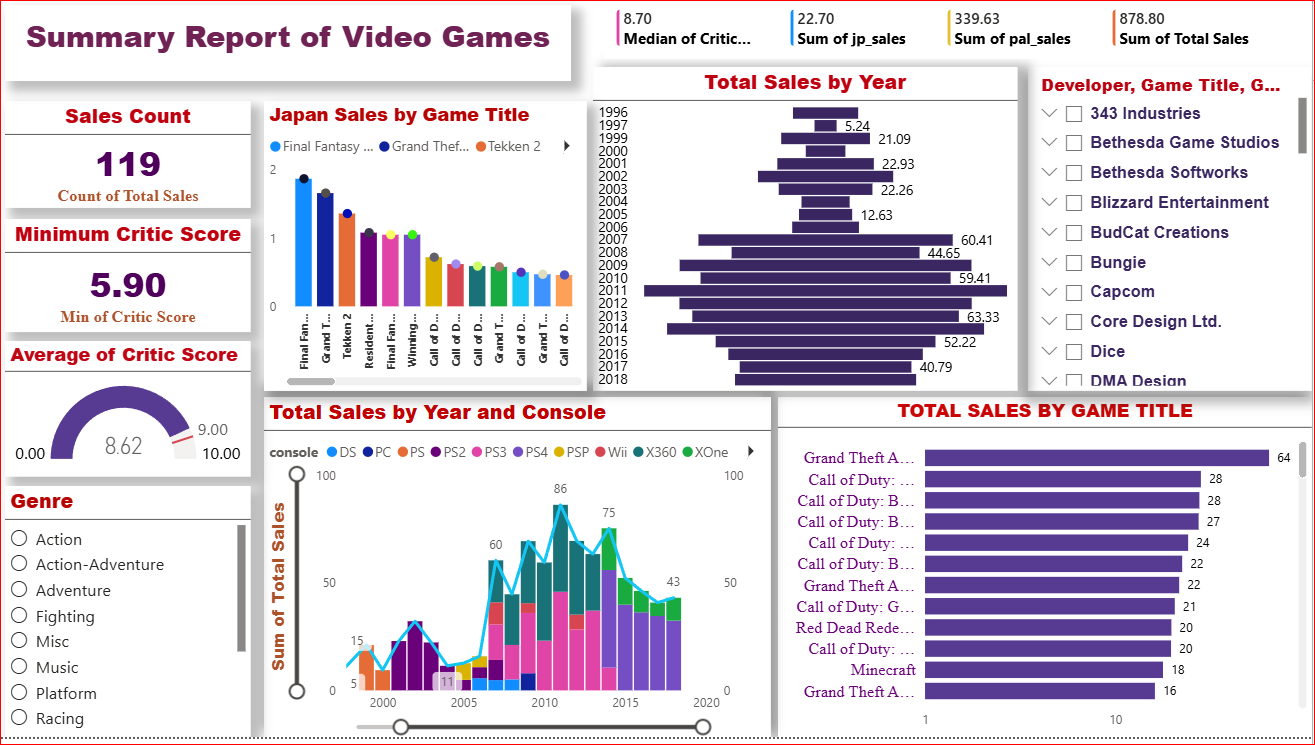

The page's visual inventory and layout, read from the dashboard file:
{"tool":"powerbi","page":{"name":"Page 1","canvas":[1280,720],"ordinal":0},"visuals":[{"type":"clusteredBarChart","title":"TOTAL SALES BY GAME TITLE","fields":{"Category":["Power-BI+Data+Set+used+in+the+e.title"],"Y":["Sum(Power-BI+Data+Set+used+in+the+e.total_sales)"]},"box":[760.6,389.1,519.4,330.7],"z":0},{"type":"lineStackedColumnComboChart","title":"Total Sales by Year and Console","fields":{"Category":["Power-BI+Data+Set+used+in+the+e.release_date.Variation.Date Hierarchy.Year","Power-BI+Data+Set+used+in+the+e.release_date.Variation.Date Hierarchy.Quarter","Power-BI+Data+Set+used+in+the+e.release_date.Variation.Date Hierarchy.Month","Power-BI+Data+Set+used+in+the+e.release_date.Variation.Date Hierarchy.Day"],"Y":["Sum(Power-BI+Data+Set+used+in+the+e.total_sales)"],"Y2":["Sum(Power-BI+Data+Set+used+in+the+e.total_sales)"],"Series":["Power-BI+Data+Set+used+in+the+e.console"]},"box":[260.7,389.1,493.1,330.7],"z":1000},{"type":"card","title":"Sales Count","fields":{"Values":["CountNonNull(Power-BI+Data+Set+used+in+the+e.total_sales)"]},"box":[8.8,101.2,239.3,104.1],"z":2000},{"type":"card","title":"Minimum Critic Score","fields":{"Values":["Min(Power-BI+Data+Set+used+in+the+e.critic_score)"]},"box":[8.8,215.9,239.3,109.9],"z":3000},{"type":"slicer","fields":{"Values":["Power-BI+Data+Set+used+in+the+e.developer","Power-BI+Data+Set+used+in+the+e.title","Power-BI+Data+Set+used+in+the+e.Genre"]},"box":[1003.8,68.1,276.2,315.1],"z":4000},{"type":"funnel","title":"Total Sales by Year","fields":{"Category":["Power-BI+Data+Set+used+in+the+e.release_date","Power-BI+Data+Set+used+in+the+e.release_date.Variation.Date Hierarchy.Year"],"Y":["Sum(Power-BI+Data+Set+used+in+the+e.Total Sales)"]},"box":[580.6,67.9,412.7,314.9],"z":5000},{"type":"gauge","fields":{"Y":["Avg(Power-BI+Data+Set+used+in+the+e.Critic Score)"]},"box":[8.8,334.6,239.3,132.3],"z":6000},{"type":"lineStackedColumnComboChart","title":"Japan Sales by Game Title","fields":{"Category":["Power-BI+Data+Set+used+in+the+e.Game Title"],"Y":["Sum(Power-BI+Data+Set+used+in+the+e.jp_sales)"],"Series":["Power-BI+Data+Set+used+in+the+e.Game Title"],"Y2":["Sum(Power-BI+Data+Set+used+in+the+e.jp_sales)"]},"box":[260.7,101.2,314.2,282.1],"z":7000},{"type":"card","title":"Summary Report of Video Games","fields":{"Values":["CountNonNull(Power-BI+Data+Set+used+in+the+e.total_sales)"]},"box":[8.8,8,550.5,74],"z":8000},{"type":"cardVisual","fields":{"Data":["Median(Power-BI+Data+Set+used+in+the+e.Critic Score)"]},"box":[591.4,0,169.2,60.3],"z":9000},{"type":"cardVisual","fields":{"Data":["Sum(Power-BI+Data+Set+used+in+the+e.jp_sales)"]},"box":[760.6,0,152.7,60.3],"z":10000},{"type":"cardVisual","fields":{"Data":["Sum(Power-BI+Data+Set+used+in+the+e.pal_sales)"]},"box":[913.3,0,160.5,60.3],"z":11000},{"type":"cardVisual","fields":{"Data":["Sum(Power-BI+Data+Set+used+in+the+e.Total Sales)"]},"box":[1073.8,0,174.1,60.3],"z":12000},{"type":"listSlicer","fields":{"Values":["Power-BI+Data+Set+used+in+the+e.Genre"]},"box":[8.8,475.6,239.3,244.1],"z":12001}]}

Visuals, with their boxes in screenshot pixels (x1, y1, x2, y2), scaled from the page's 1280x720 canvas onto the 1315x745 screenshot:
"TOTAL SALES BY GAME TITLE" clusteredBarChart: [x1=781, y1=403, x2=1314, y2=744]
"Total Sales by Year and Console" lineStackedColumnComboChart: [x1=268, y1=403, x2=774, y2=744]
"Sales Count" card: [x1=9, y1=105, x2=255, y2=212]
"Minimum Critic Score" card: [x1=9, y1=223, x2=255, y2=337]
slicer - Power-BI+Data+Set+used+in+the+e.developer x Power-BI+Data+Set+used+in+the+e.title: [x1=1031, y1=70, x2=1314, y2=397]
"Total Sales by Year" funnel: [x1=596, y1=70, x2=1020, y2=396]
gauge - Avg(Power-BI+Data+Set+used+in+the+e.Critic Score): [x1=9, y1=346, x2=255, y2=483]
"Japan Sales by Game Title" lineStackedColumnComboChart: [x1=268, y1=105, x2=591, y2=397]
"Summary Report of Video Games" card: [x1=9, y1=8, x2=575, y2=85]
cardVisual - Median(Power-BI+Data+Set+used+in+the+e.Critic Score): [x1=608, y1=0, x2=781, y2=62]
cardVisual - Sum(Power-BI+Data+Set+used+in+the+e.jp_sales): [x1=781, y1=0, x2=938, y2=62]
cardVisual - Sum(Power-BI+Data+Set+used+in+the+e.pal_sales): [x1=938, y1=0, x2=1103, y2=62]
cardVisual - Sum(Power-BI+Data+Set+used+in+the+e.Total Sales): [x1=1103, y1=0, x2=1282, y2=62]
listSlicer - Power-BI+Data+Set+used+in+the+e.Genre: [x1=9, y1=492, x2=255, y2=744]
